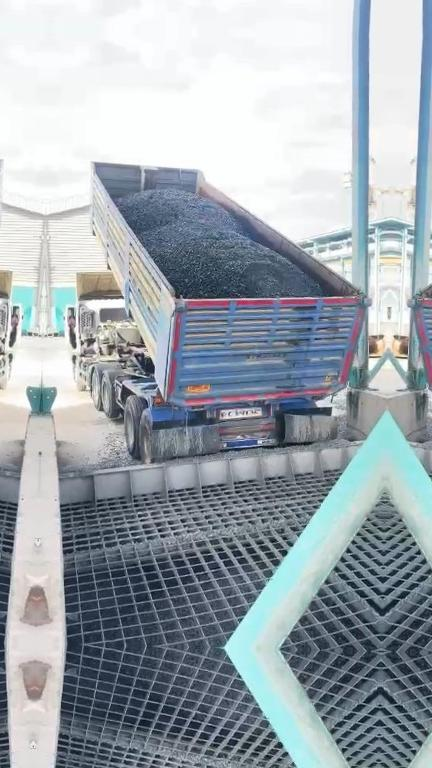gravel: (116, 190, 322, 298)
